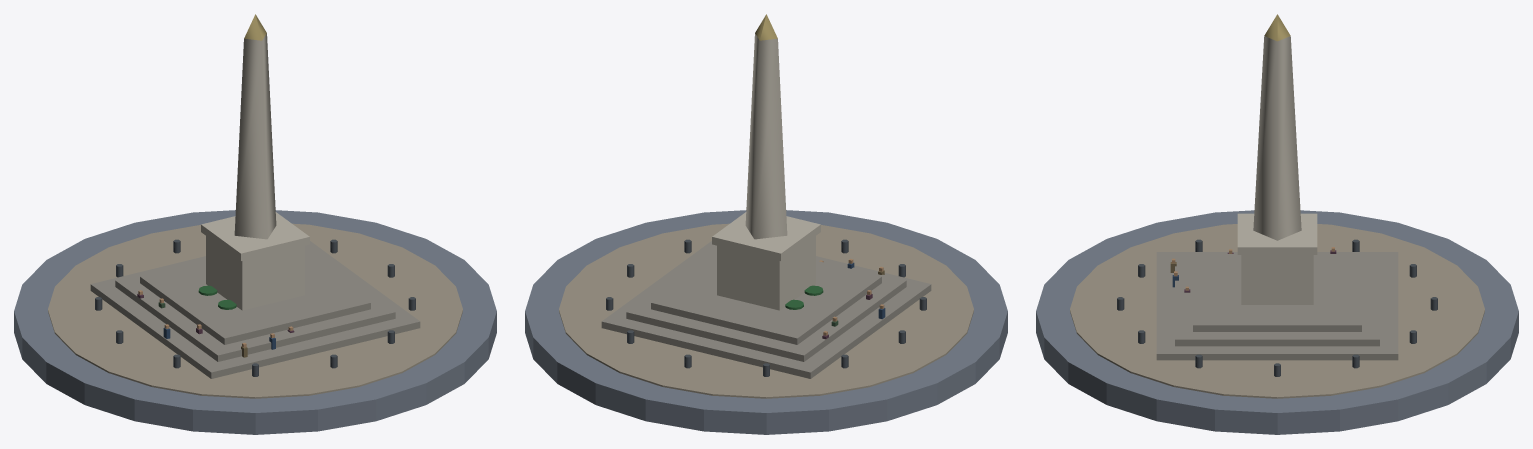
File: monument.glb
3 views of the same model, side by side, from view 1: azimuth 30°, elevation 25°; view 2: azimuth 150°, elevation 25°; view 3: azimuth 270°, elevation 25° (orthographic).
Parts seen in each view (by area): view 1: monument; view 2: monument; view 3: monument.
Part boxes in pixels (bbox=[...]): monument: bbox=[14, 14, 496, 434]; monument: bbox=[525, 14, 1007, 434]; monument: bbox=[1036, 14, 1518, 434].
Bounding box in the file's own units: 40 × 29.15 × 40.
